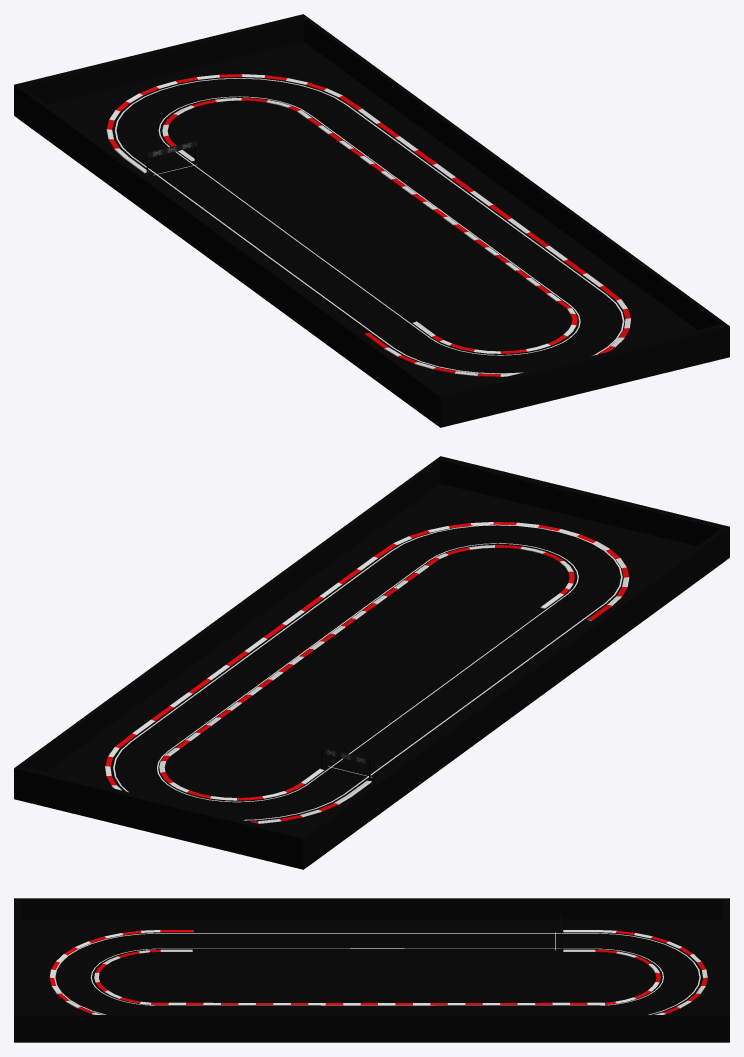
File: Track.fbx
The picture shows the model from 3 angles, top to bottom: view 1: azimuth 30°, elevation 25°; view 2: azimuth 150°, elevation 25°; view 3: azimuth 270°, elevation 25°; orthographic projection. The views are drawn at different scales.
Parts seen in each view (by area): view 1: Cube.011; view 2: Cube.011; view 3: Cube.011.
Part boxes in pixels (x1=…): Cube.011: x1=14, y1=14, x2=729, y2=427; Cube.011: x1=14, y1=456, x2=729, y2=869; Cube.011: x1=14, y1=898, x2=729, y2=1042.
Bounding box in the file's own units: 908 × 92.92 × 2316.
